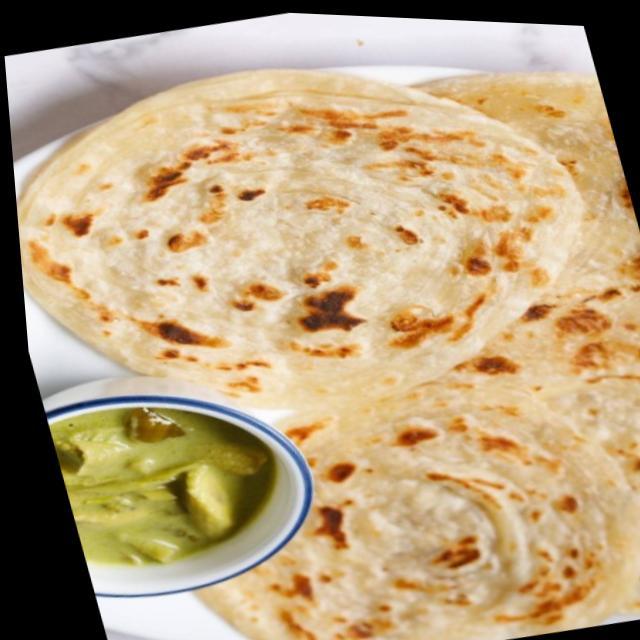CURRY: (51, 405, 276, 566)
PAROTTA: (16, 68, 640, 640)
